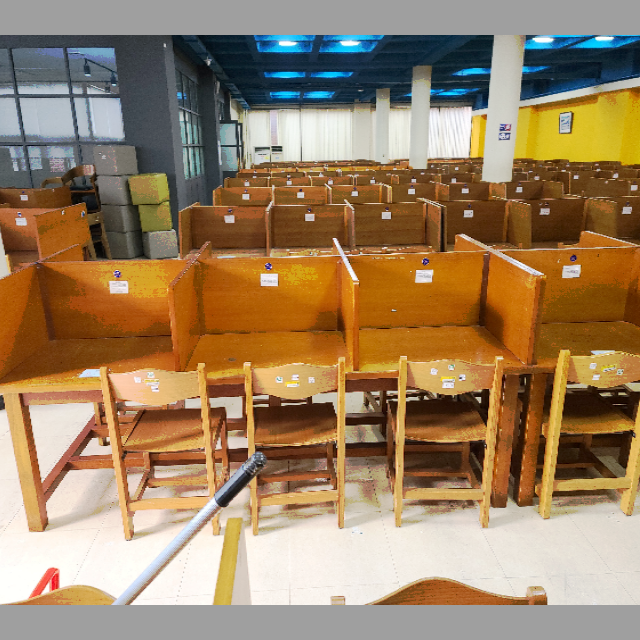empty: (8, 240, 198, 455), (365, 236, 530, 453), (206, 240, 361, 453)
